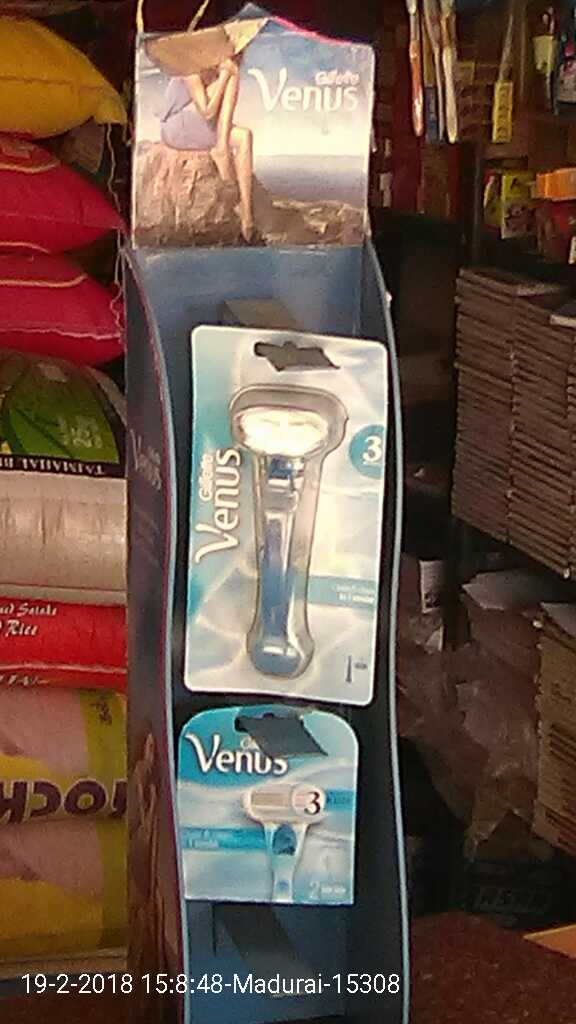venus: (185, 319, 379, 700), (178, 707, 368, 911)
